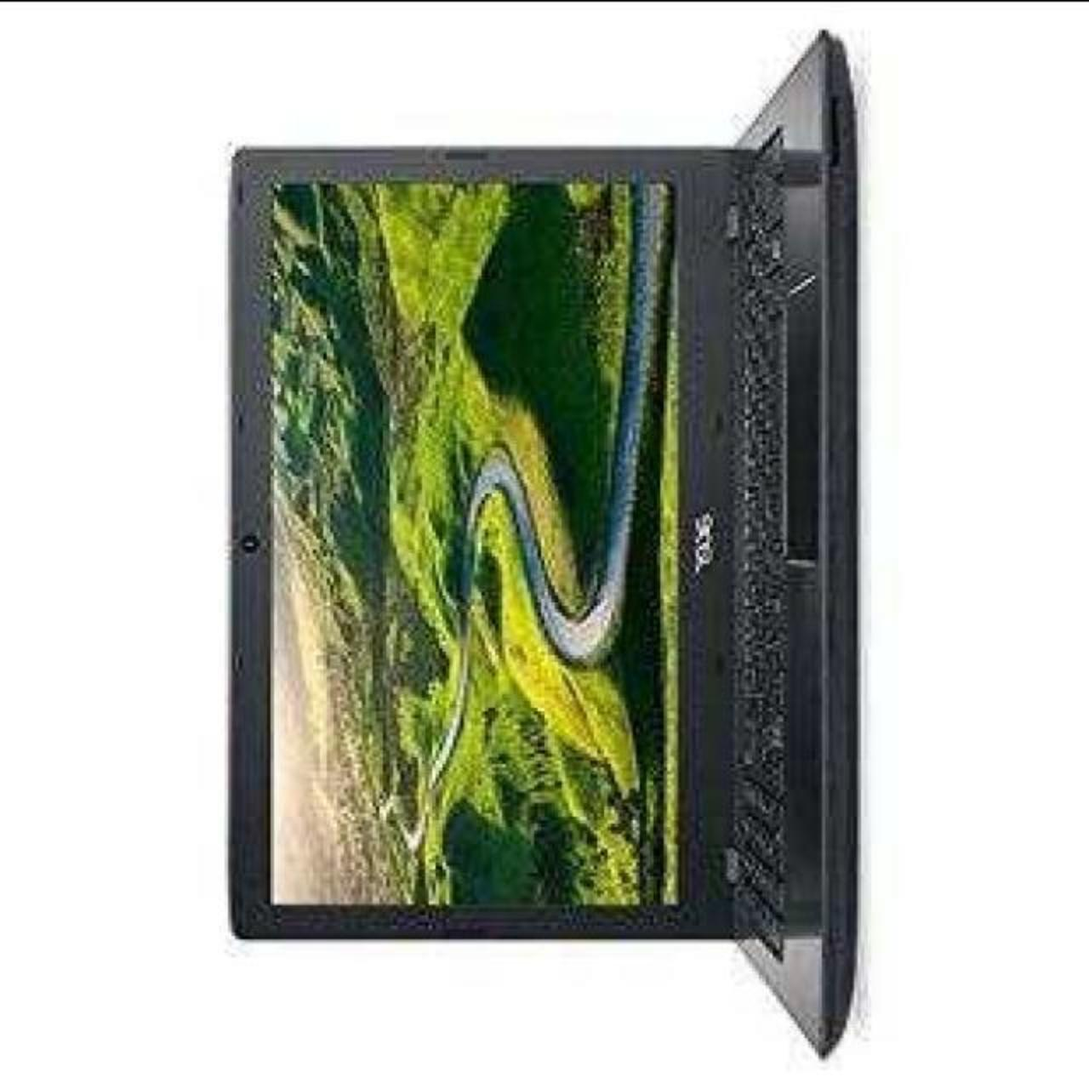laptop: (199, 69, 938, 1058)
